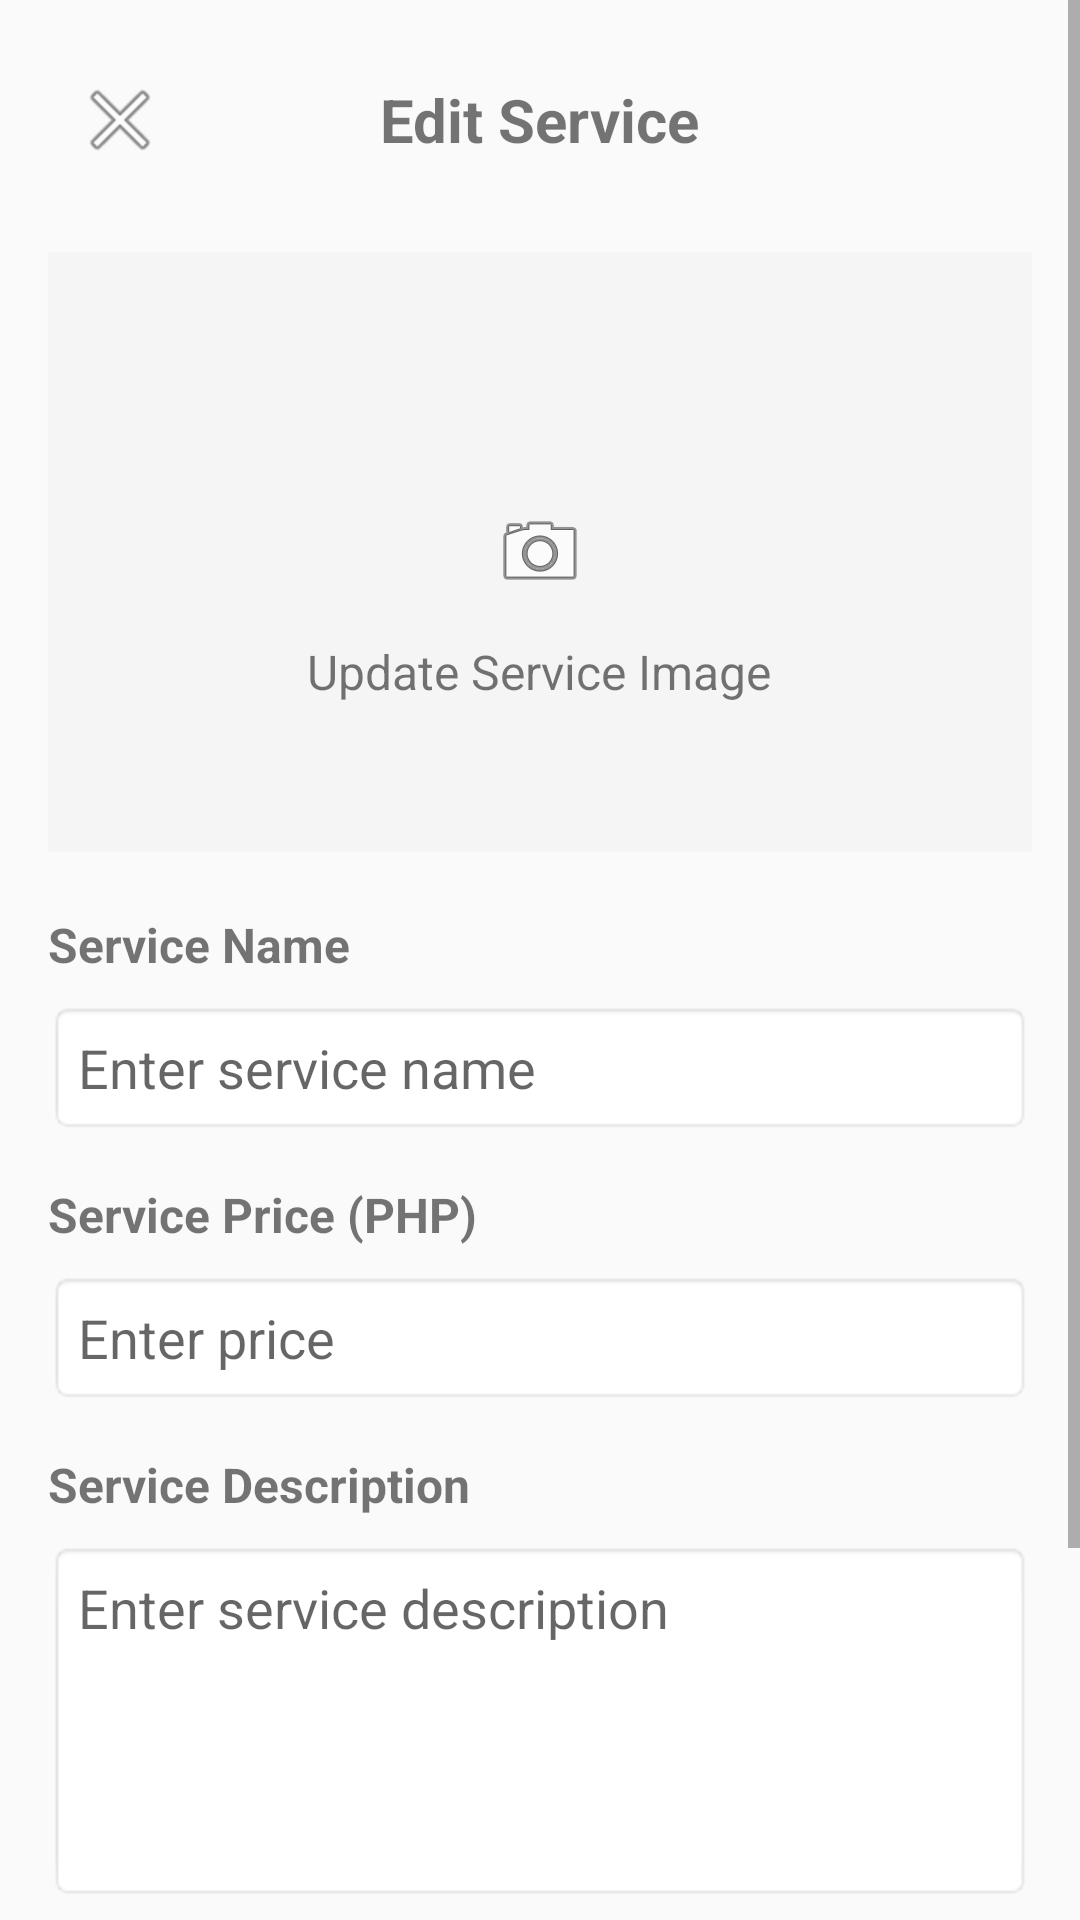

Screen size 1080*1920. Icon name, then its center in pixels as [x,y]:
Add Image: [540,550]
